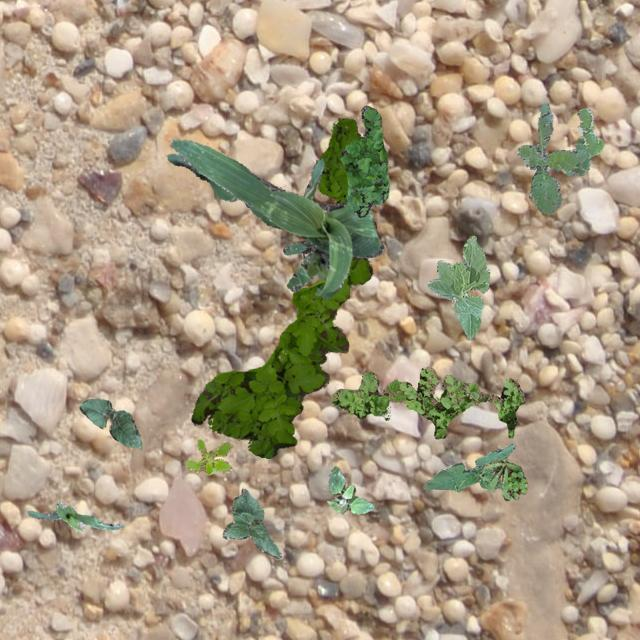crop: (170, 136, 382, 298), (166, 152, 324, 228), (426, 235, 488, 338), (422, 444, 514, 492), (222, 488, 280, 558), (78, 398, 140, 448), (27, 500, 122, 530)
weed: (190, 118, 372, 458), (331, 366, 524, 438), (516, 100, 602, 214), (339, 105, 388, 216), (327, 466, 372, 512), (482, 458, 526, 499), (185, 438, 231, 474), (282, 238, 312, 264)
